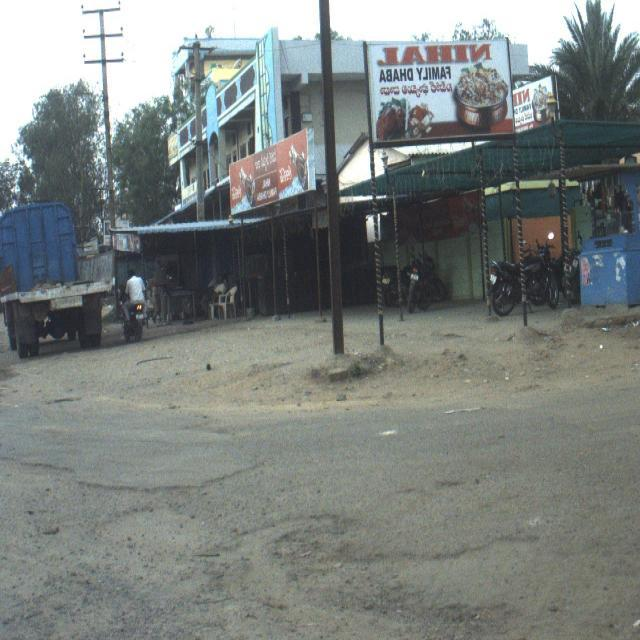pothole: (2, 486, 349, 640), (374, 496, 551, 640), (0, 402, 264, 484), (98, 344, 194, 394)
